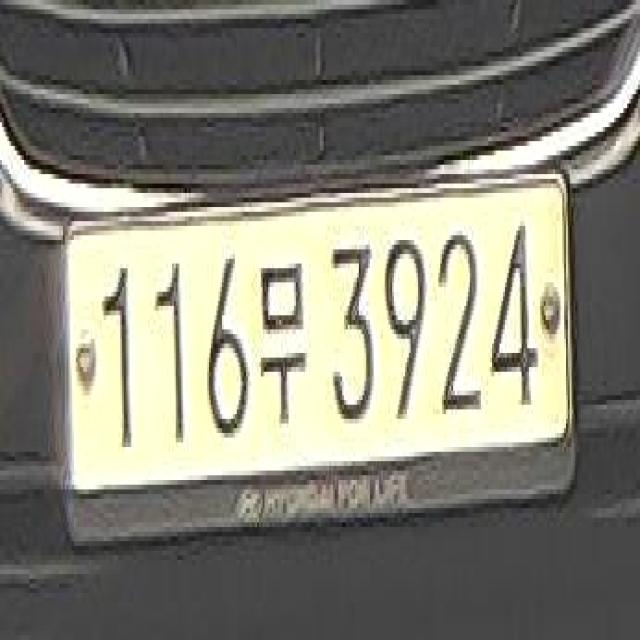illegal_plate: (62, 170, 574, 544)
